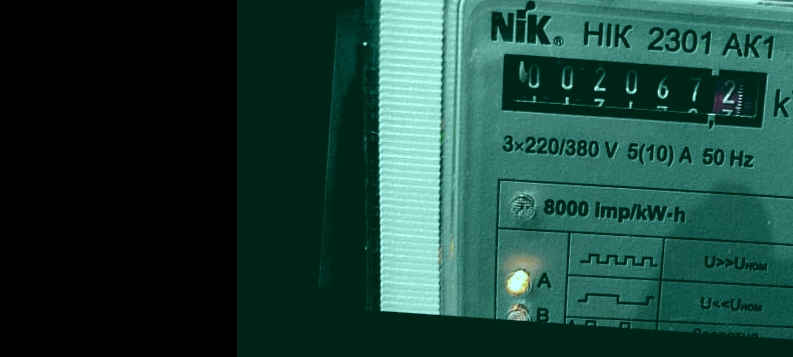0: (524, 61, 544, 92), (621, 66, 641, 95), (559, 62, 578, 92)
2: (720, 76, 740, 106), (591, 64, 610, 94)
6: (654, 71, 674, 102)
7: (687, 74, 705, 105)
screen: (486, 40, 783, 142)
